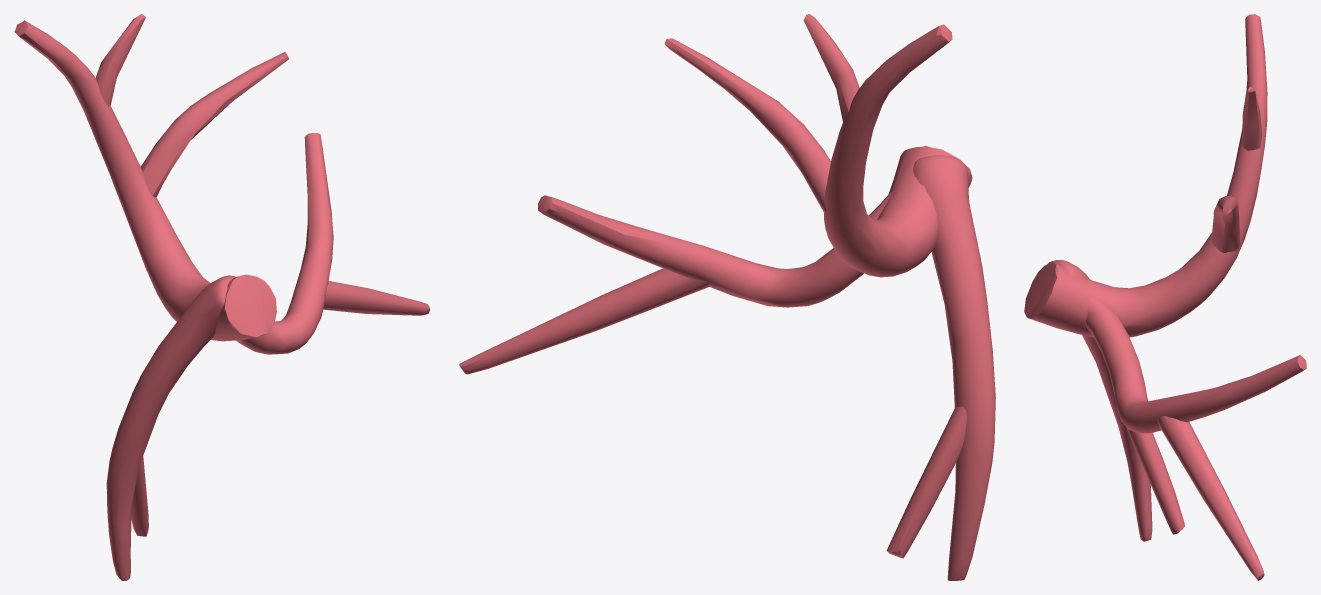
The model's file is fma68135_cx144.glb.
3 views of the same model, side by side, from view 1: azimuth 30°, elevation 25°; view 2: azimuth 150°, elevation 25°; view 3: azimuth 270°, elevation 25° (orthographic). The views are drawn at different scales.
Visible parts, largest first — view 1: FMA68135_CX144; view 2: FMA68135_CX144; view 3: FMA68135_CX144.
Part boxes in pixels (bbox=[...]): FMA68135_CX144: bbox=[14, 14, 430, 580]; FMA68135_CX144: bbox=[459, 14, 995, 580]; FMA68135_CX144: bbox=[1024, 14, 1306, 580].
Bounding box in the file's own units: 0.0556 × 0.0673 × 0.0341.
